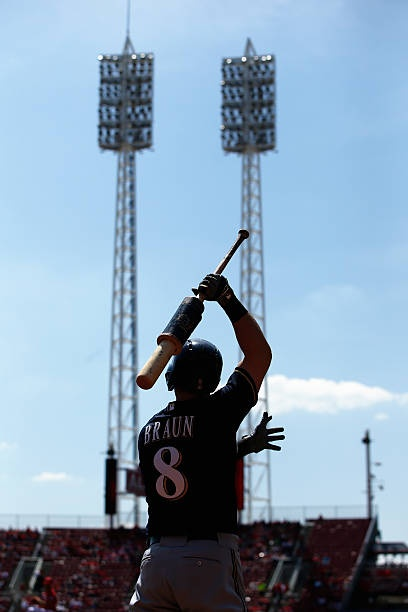bita: (135, 229, 250, 387)
